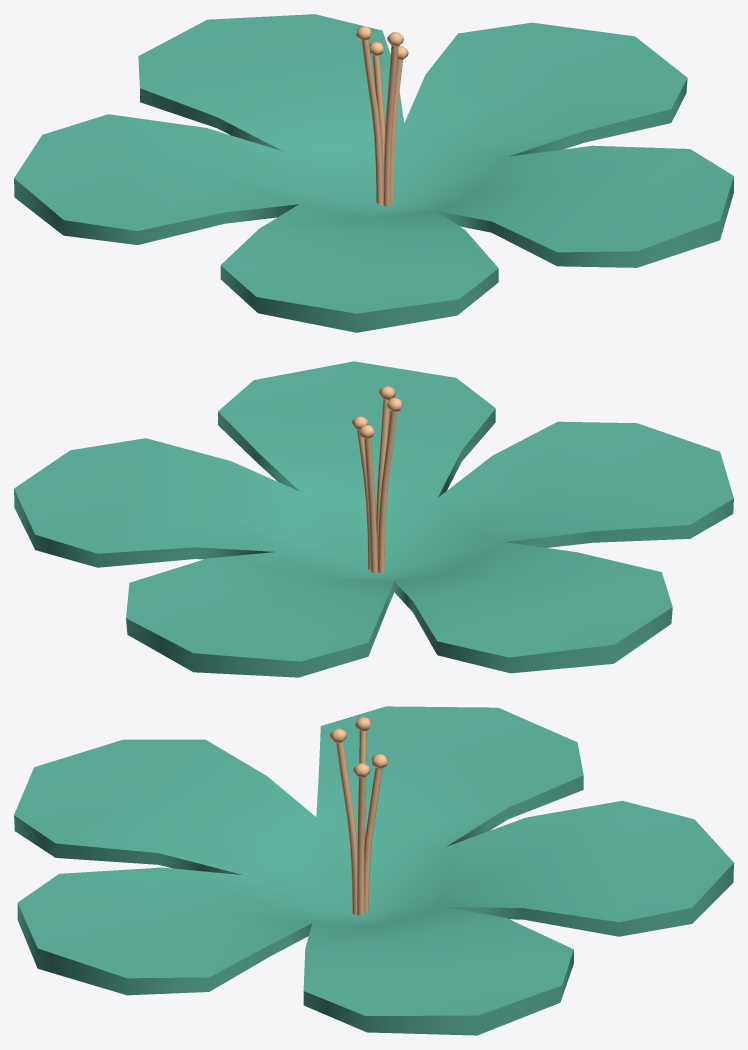
Rendered from flor01.fbx.
3 views of the same model, one above another, from view 1: azimuth 30°, elevation 25°; view 2: azimuth 150°, elevation 25°; view 3: azimuth 270°, elevation 25° (orthographic). The views are drawn at different scales.
Parts seen in each view (by area): view 1: flor01; view 2: flor01; view 3: flor01.
Part boxes in pixels (box(x1,y1,x2,y2)): flor01: box(14, 14, 733, 332); flor01: box(14, 361, 733, 677); flor01: box(14, 706, 733, 1035).
Size of the model in its own units: 15.32 by 4.35 by 15.02.
